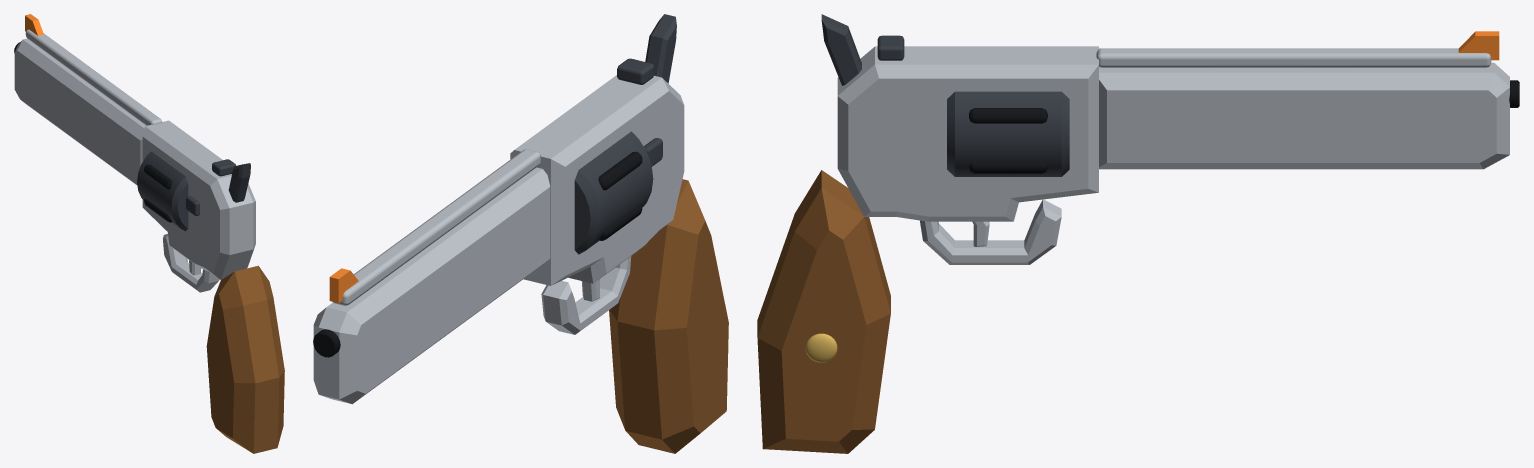
File: revolver.glb
3 renders of one model, left to right at view 1: azimuth 30°, elevation 25°; view 2: azimuth 150°, elevation 25°; view 3: azimuth 270°, elevation 25°, orthographic. The views are drawn at different scales.
Visible parts, largest first — view 1: grip, frame, barrel_lug, vent_rib, cylinder, trigger_guard, hammer, flute_2, rear_sight, front_sight; view 2: barrel_lug, grip, frame, cylinder, vent_rib, trigger_guard, hammer, rear_sight, flute_2, front_sight, bore, flute_3; view 3: barrel_lug, frame, grip, cylinder, vent_rib, trigger_guard, hammer, flute_0, flute_5, front_sight, grip_medallion.
Part boxes in pixels (x1,y1,x2,y2): grip: [206, 265, 284, 453]; frame: [142, 120, 255, 279]; barrel_lug: [14, 38, 145, 185]; vent_rib: [25, 29, 162, 125]; cylinder: [137, 151, 188, 231]; trigger_guard: [163, 234, 219, 292]; hammer: [228, 163, 250, 202]; flute_2: [144, 164, 172, 189]; rear_sight: [212, 159, 236, 176]; front_sight: [25, 14, 43, 35]; barrel_lug: [313, 167, 550, 404]; grip: [609, 179, 728, 453]; frame: [510, 75, 684, 285]; cylinder: [574, 131, 653, 254]; vent_rib: [332, 149, 540, 305]; trigger_guard: [541, 256, 631, 334]; hammer: [645, 14, 676, 83]; rear_sight: [617, 58, 654, 84]; flute_2: [598, 151, 642, 190]; front_sight: [329, 268, 358, 303]; bore: [313, 329, 340, 357]; flute_3: [598, 204, 642, 240]; barrel_lug: [1099, 62, 1509, 169]; frame: [837, 46, 1098, 221]; grip: [757, 170, 890, 453]; cylinder: [947, 91, 1069, 176]; vent_rib: [1096, 48, 1491, 67]; trigger_guard: [919, 199, 1061, 264]; hammer: [821, 14, 861, 85]; flute_0: [969, 108, 1047, 123]; flute_5: [969, 162, 1047, 173]; front_sight: [1458, 31, 1499, 60]; grip_medallion: [805, 333, 837, 362].
Size of the model in its own units: 0.043 by 0.177 by 0.2855.
